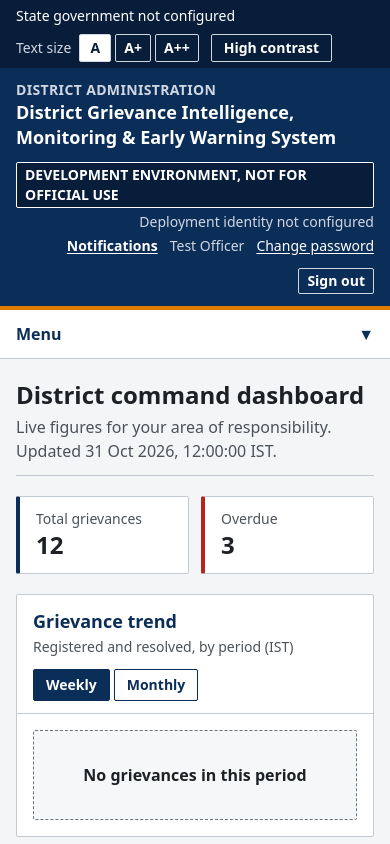
Test: Application shell › mobile menu toggle exposes its expanded state
The image size is (390, 844).
Click the button "Menu ▼": (39, 334) x1=0 y1=310 x2=389 y2=358
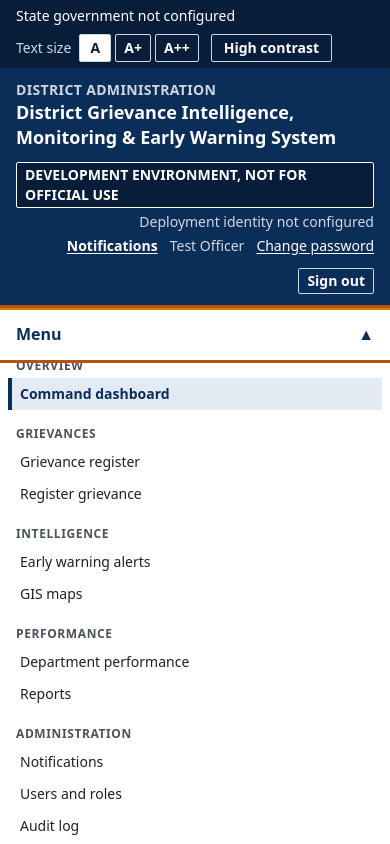
Expected: the button "Menu ▲" is expanded, x1=0 y1=310 x2=389 y2=358
